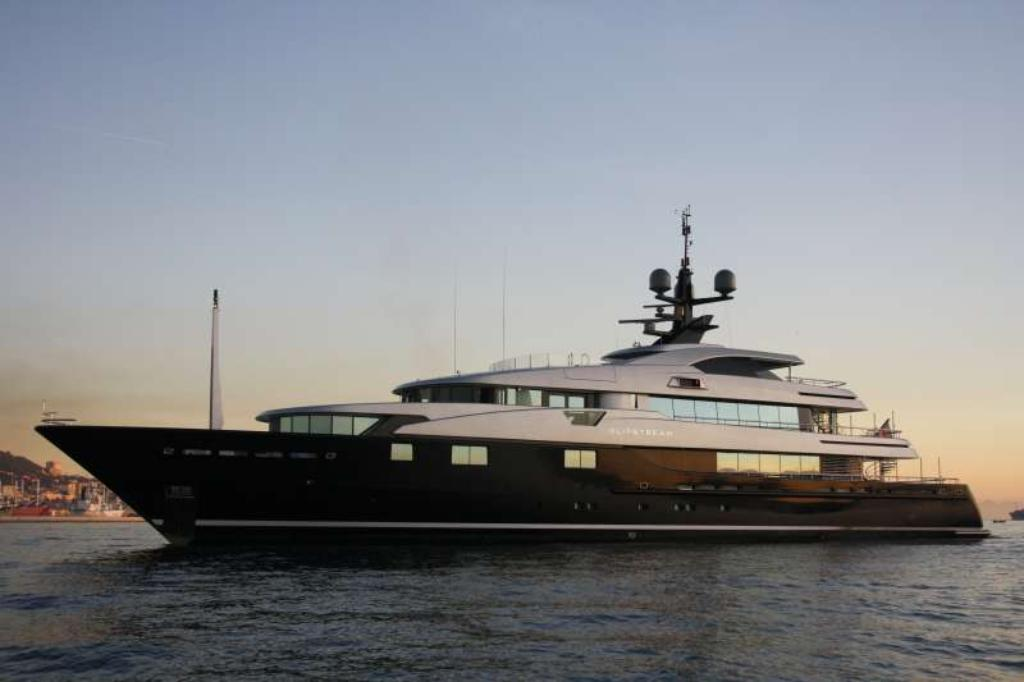PassengerShip: (18, 205, 1006, 547)
